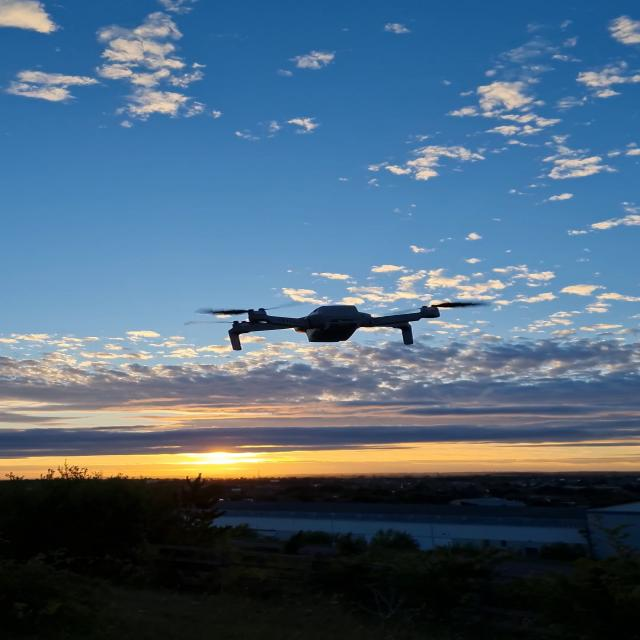Drone: (207, 293, 475, 388)
